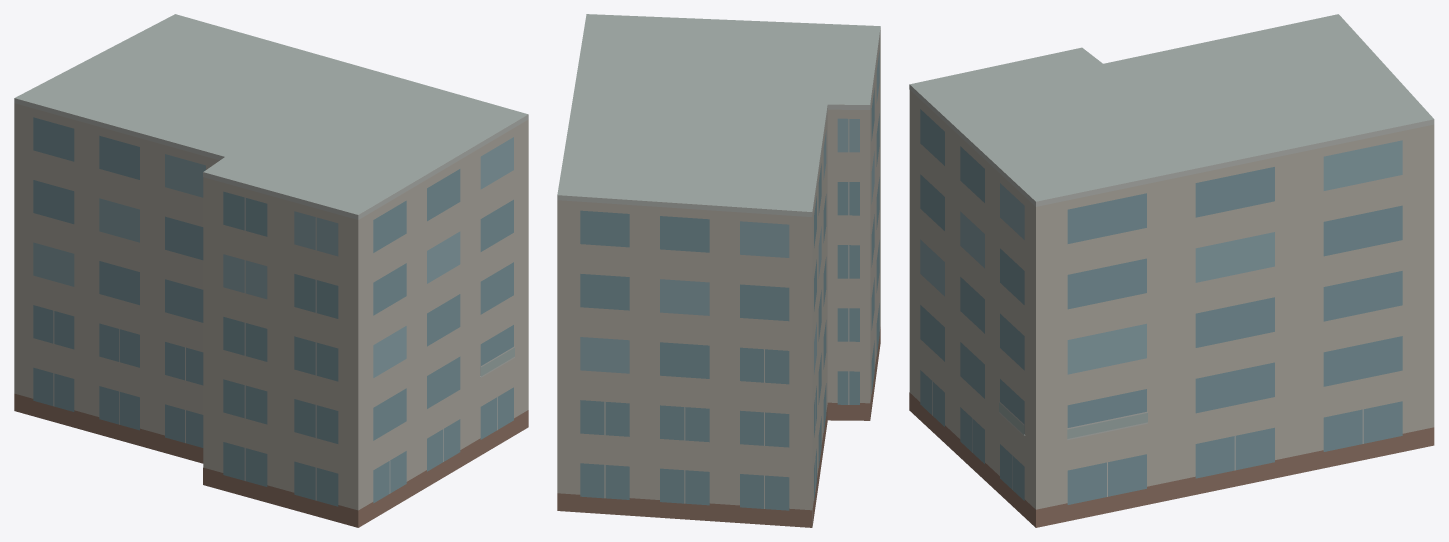
File: survey-upis-32908895.glb
The picture shows the model from 3 angles, left to right: view 1: azimuth 30°, elevation 25°; view 2: azimuth 150°, elevation 25°; view 3: azimuth 270°, elevation 25°; orthographic projection. The views are drawn at different scales.
Parts seen in each view (by area): view 1: survey-upis-32908895.tmp; view 2: survey-upis-32908895.tmp; view 3: survey-upis-32908895.tmp.
Boxes of the visible parts, x1,y1,x2,y2 form: survey-upis-32908895.tmp: (14,14,528,527); survey-upis-32908895.tmp: (557,14,880,527); survey-upis-32908895.tmp: (909,14,1434,527).
Size of the model in its own units: 18.83 by 15.25 by 22.25.
